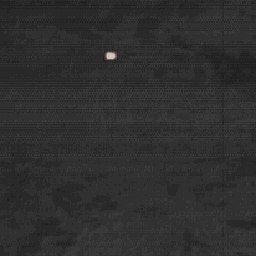Target: (104, 50, 117, 60)
